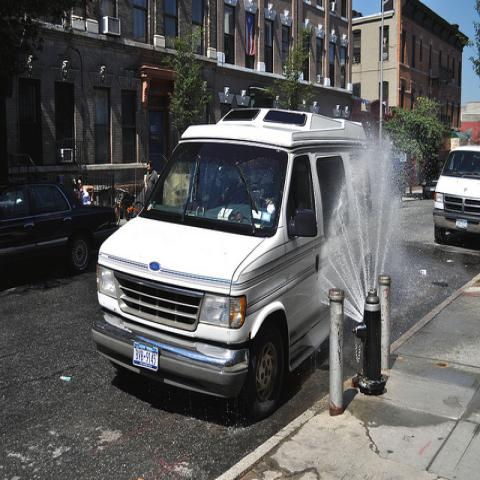car: (93, 106, 373, 411), (1, 183, 119, 273), (433, 144, 479, 248), (422, 174, 438, 200)
